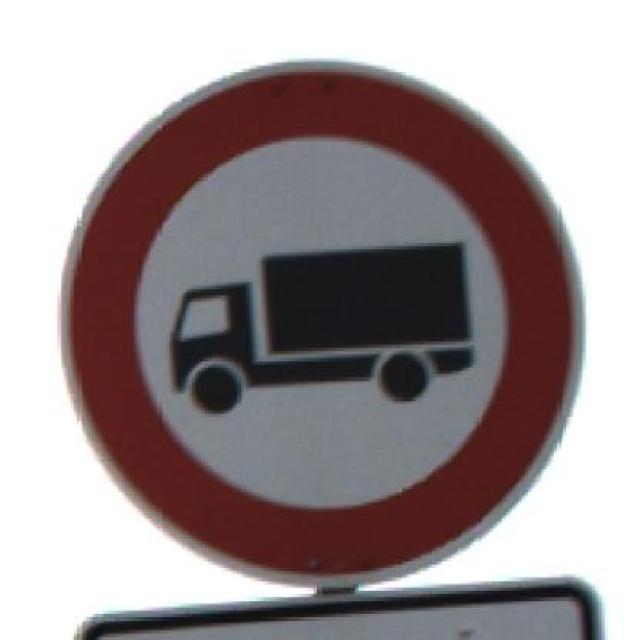Truck traffic is prohibited: (22, 56, 606, 582)
